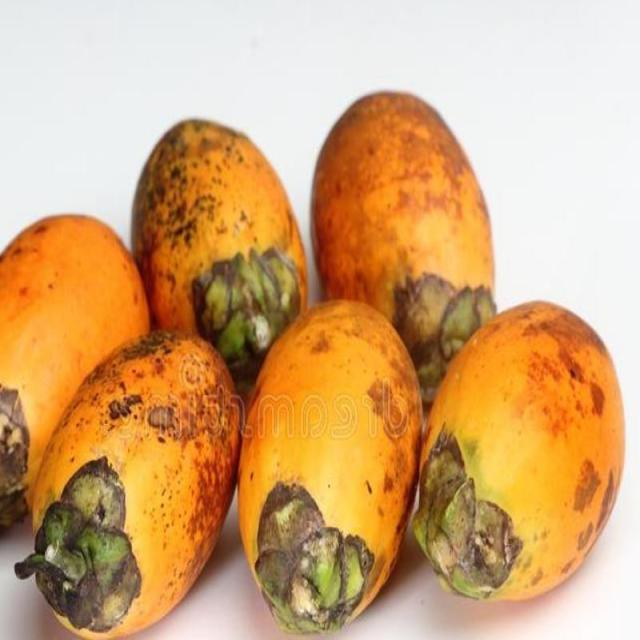good: (16, 330, 244, 639), (409, 301, 627, 604), (237, 300, 426, 639), (312, 92, 498, 405), (130, 119, 308, 400), (0, 214, 154, 500)
